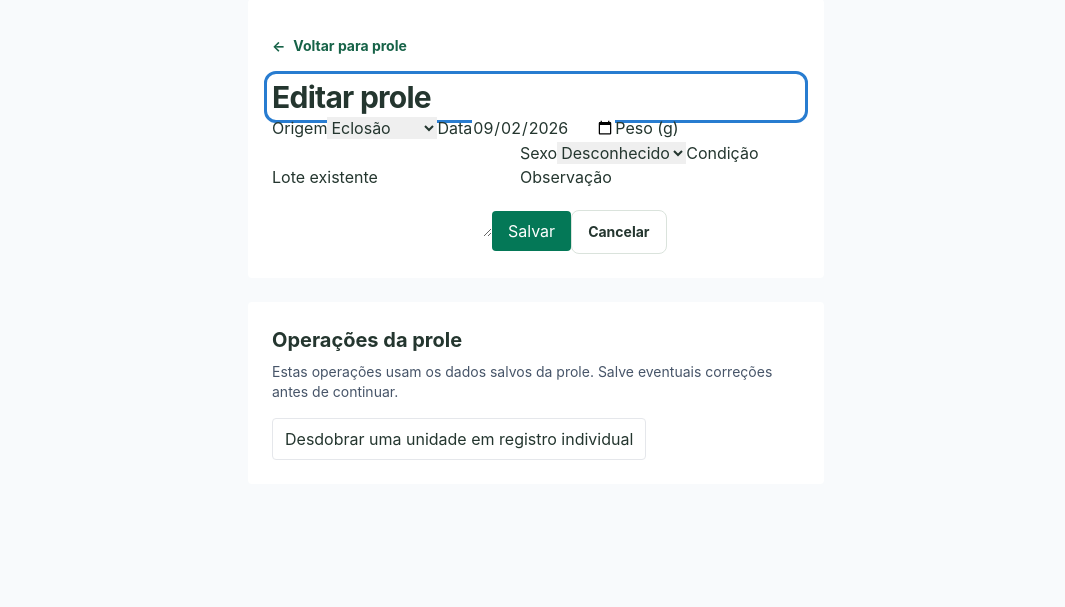
Detalhes animais e reprodução › preserva desdobramento no fluxo de edição sem dispará-lo ao abrir
Click the button "Desdobrar uma unidade em registro individual" at coordinates (459, 438), box [272,418,646,460]
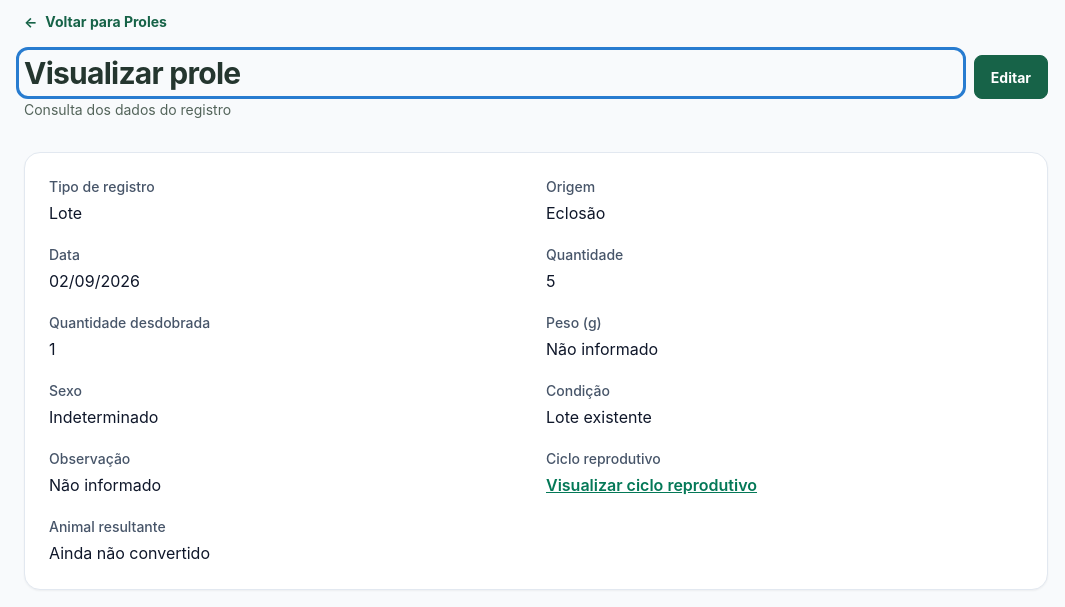
Check: the heading "Visualizar prole" is shown, box [24,55,240,91]
